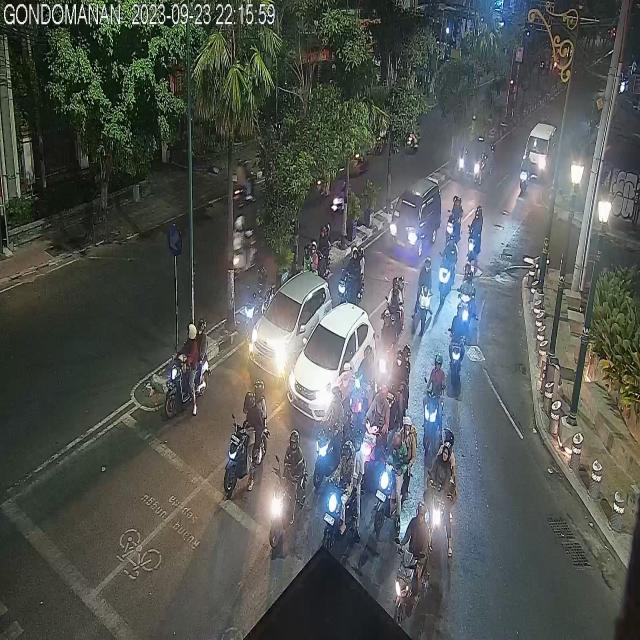car: (284, 301, 378, 427), (247, 269, 331, 379), (389, 179, 440, 252), (457, 136, 494, 191), (524, 120, 558, 176)
motorcycle: (225, 380, 272, 498), (270, 430, 308, 546), (376, 414, 413, 532), (395, 507, 430, 628), (326, 434, 360, 558), (164, 317, 206, 413), (424, 433, 456, 544), (361, 388, 390, 488), (424, 357, 446, 448), (228, 211, 257, 276), (341, 246, 362, 307), (449, 303, 466, 374), (436, 236, 454, 301), (385, 277, 403, 342), (457, 266, 475, 325), (316, 224, 334, 278), (418, 262, 433, 326), (444, 194, 462, 246), (234, 156, 252, 207), (467, 204, 482, 264), (519, 151, 532, 194)
